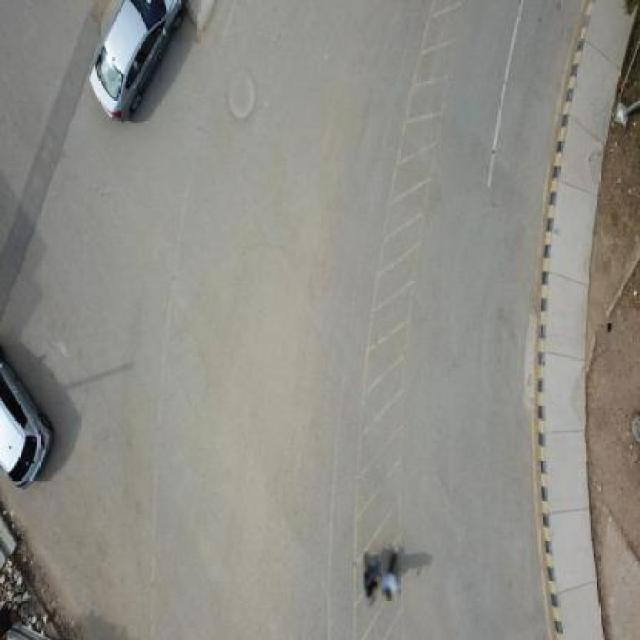Person: (382, 546, 401, 602), (364, 552, 382, 610)
